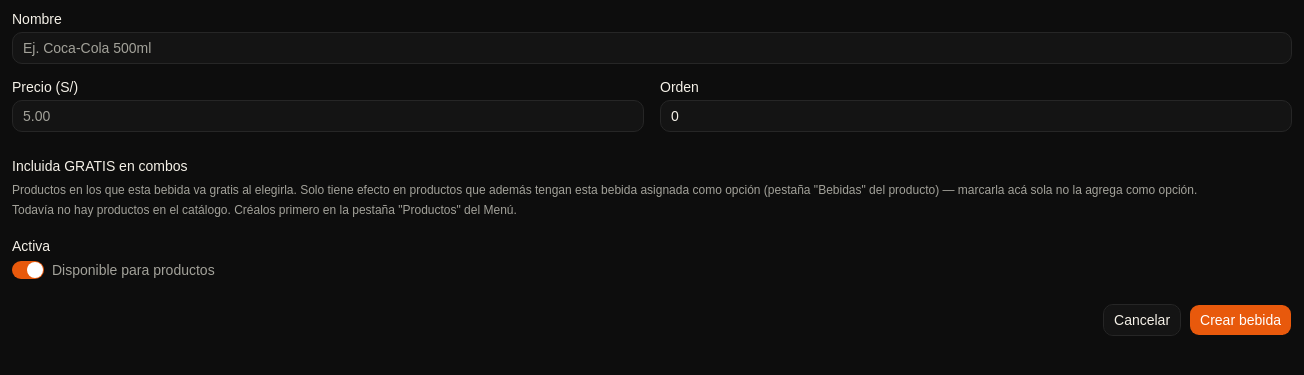
Test case: BeverageForm › rechaza un precio de 0 o negativo
In the field labelled "Nombre": (652, 48) [12,32,1292,64], type "Agua sin gas"
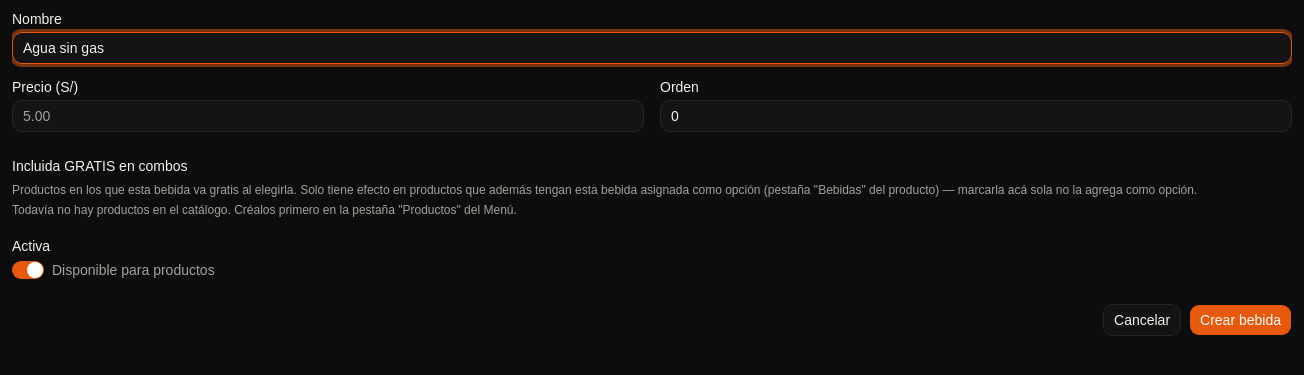
In the number field labelled "Precio (S/)": (328, 116) [12,100,644,132], type "0"
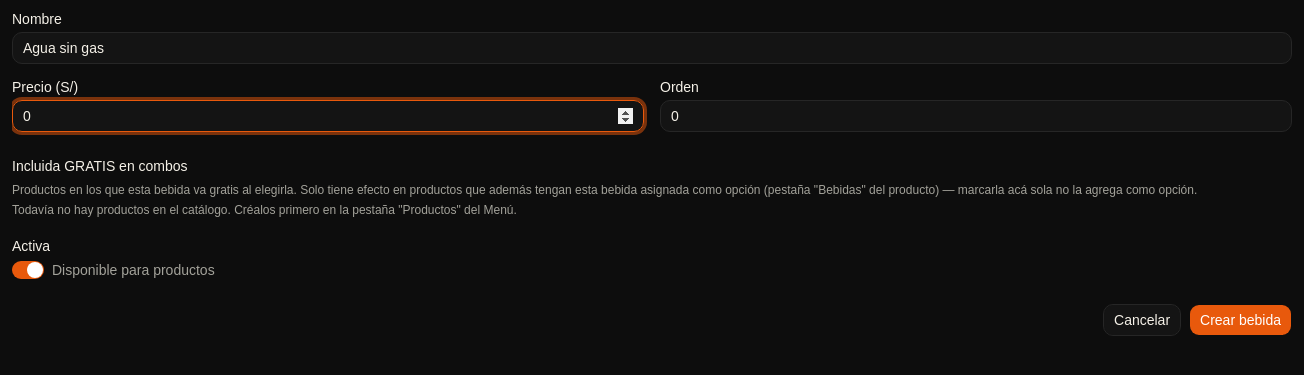
Click the button "Crear bebida": (1241, 320) [1189,304,1292,336]
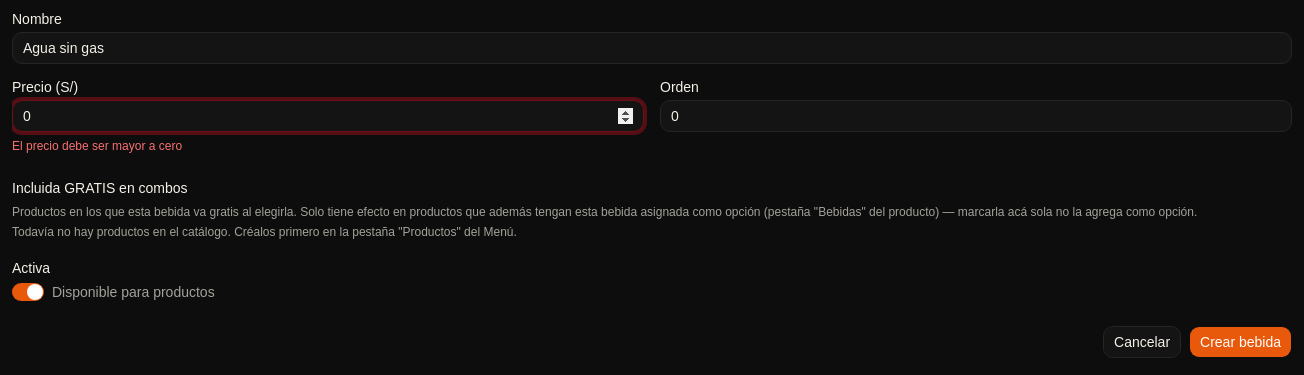
Now the text "El precio debe ser mayor a cero" is shown, box [12,139,182,153]
